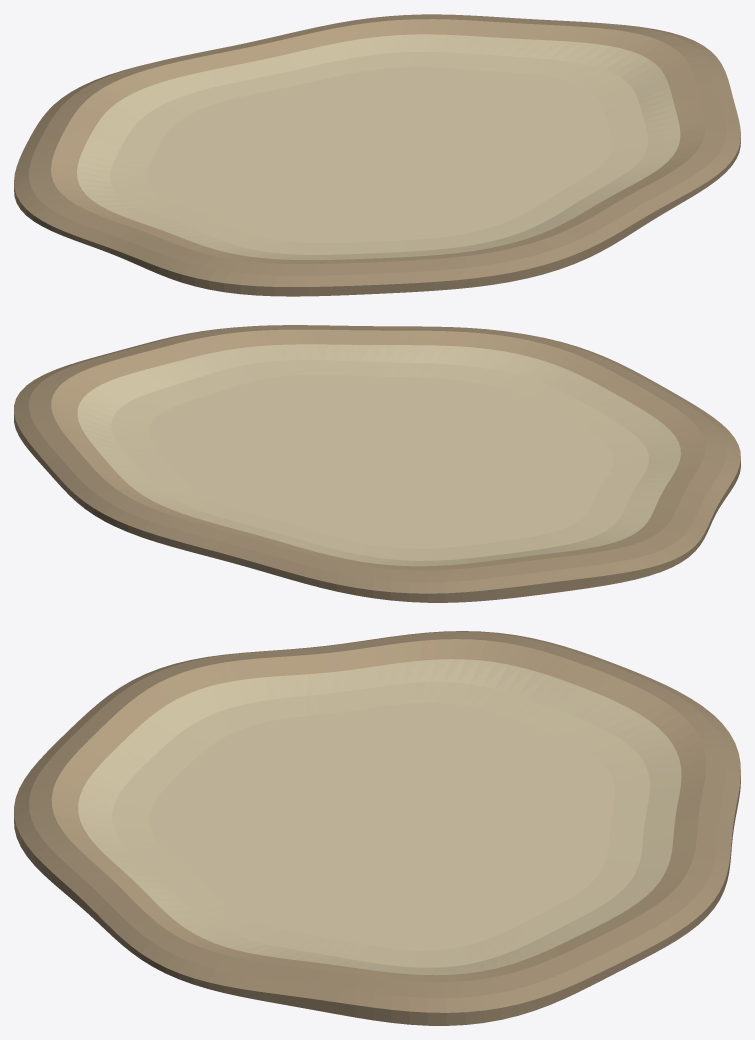
3 views of the same model, one above another, from view 1: azimuth 30°, elevation 25°; view 2: azimuth 150°, elevation 25°; view 3: azimuth 270°, elevation 25° (orthographic). The views are drawn at different scales.
Parts seen in each view (by area): view 1: closed_dry_playa_basin_broad_flat_floor_low_irregular_enclos; view 2: closed_dry_playa_basin_broad_flat_floor_low_irregular_enclos; view 3: closed_dry_playa_basin_broad_flat_floor_low_irregular_enclos.
Part boxes in pixels (x1,y1,x2,y2): closed_dry_playa_basin_broad_flat_floor_low_irregular_enclos: (14,14,740,296); closed_dry_playa_basin_broad_flat_floor_low_irregular_enclos: (14,325,740,602); closed_dry_playa_basin_broad_flat_floor_low_irregular_enclos: (14,631,740,1025).
Size of the model in its own units: 611 by 17.71 by 485.
